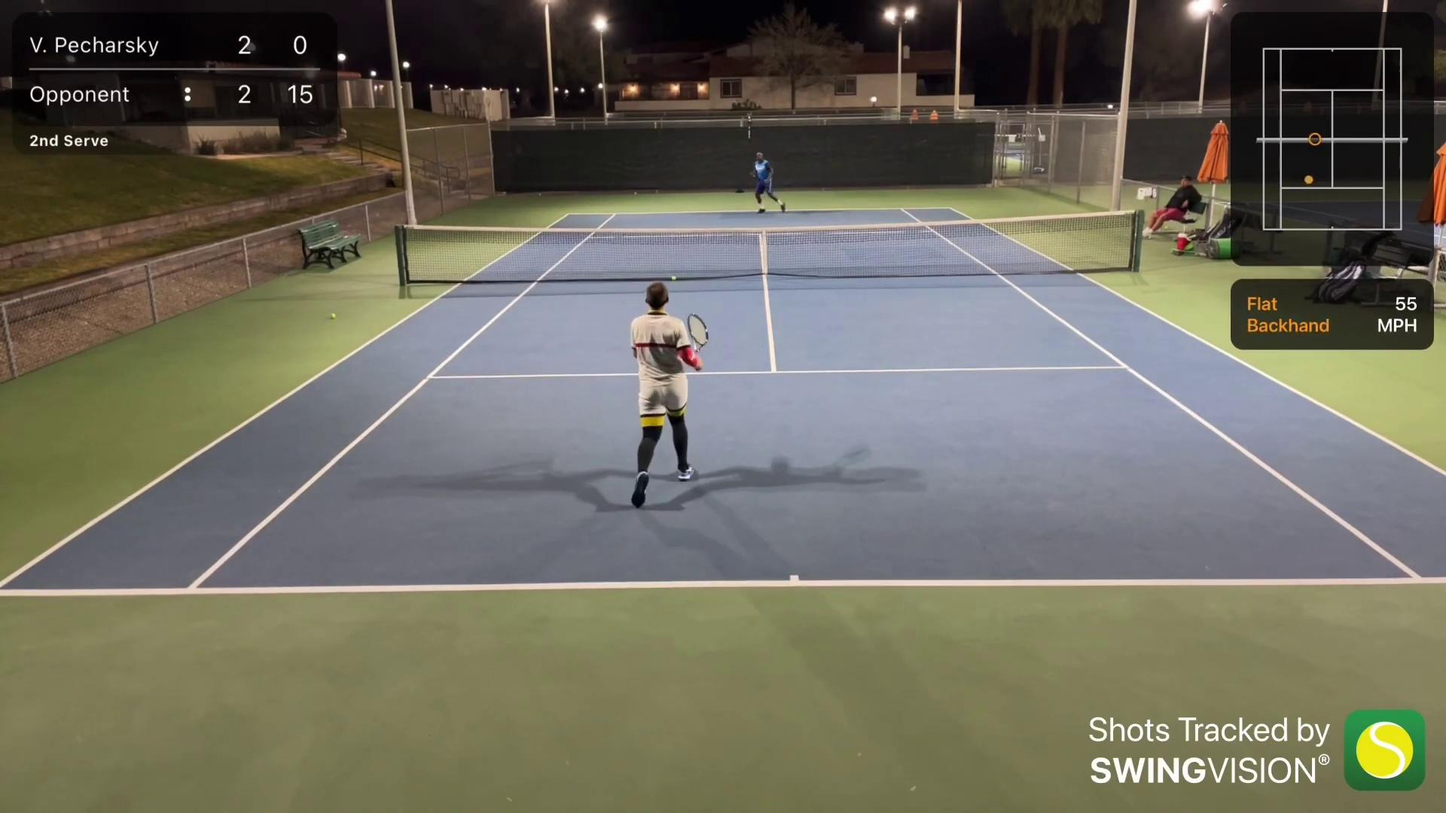ball: (329, 311, 339, 322), (668, 275, 681, 283)
